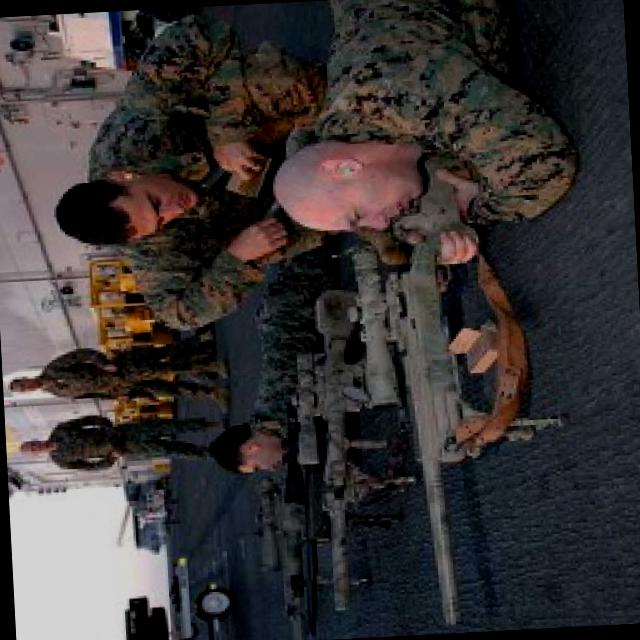long weapon: (345, 213, 542, 634), (291, 253, 409, 614), (237, 471, 338, 639)
